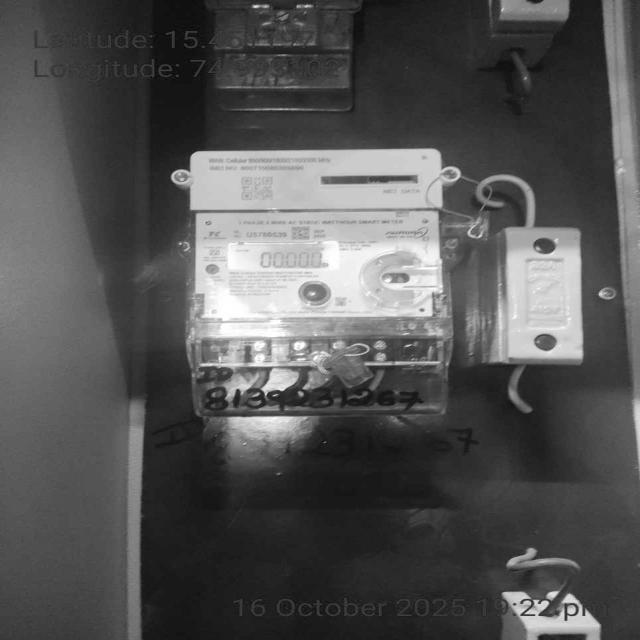meter: (186, 152, 452, 319)
